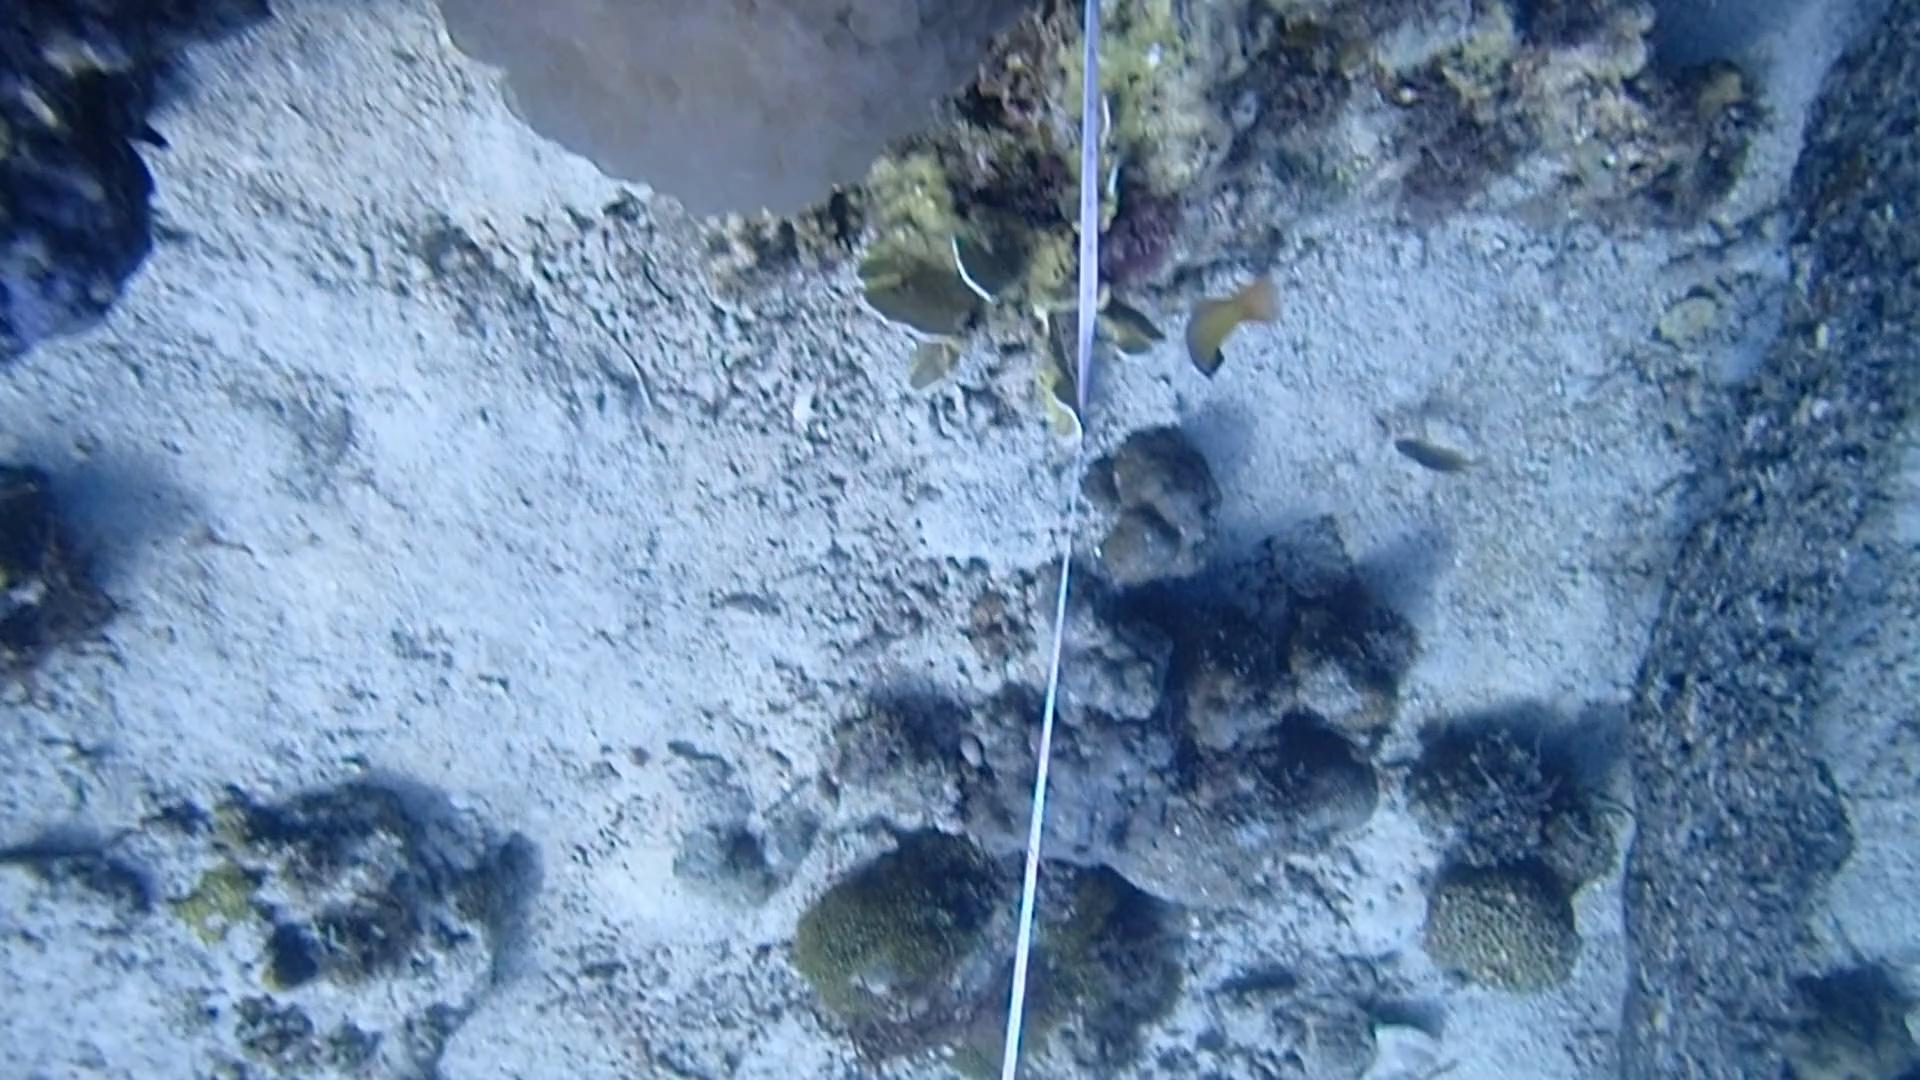Light Fish: (1385, 425, 1489, 483)
Yellow-Blue Fish: (1164, 270, 1298, 384)
